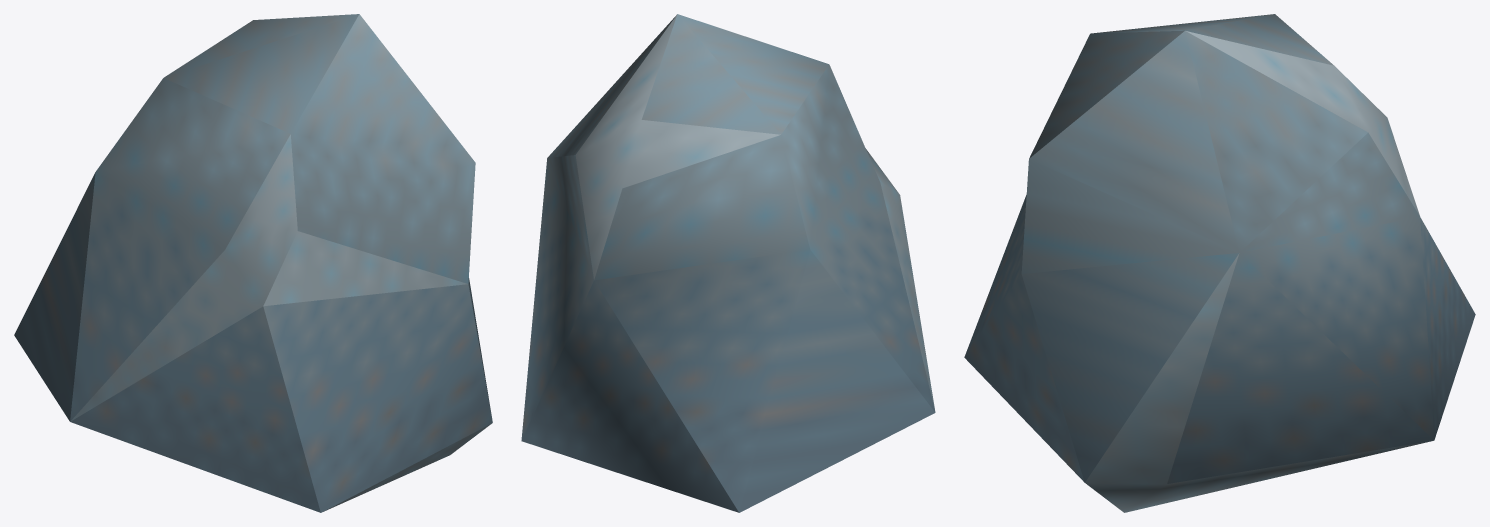
File: Iron_Nugget_Medium.gltf
3 renders of one model, left to right at view 1: azimuth 30°, elevation 25°; view 2: azimuth 150°, elevation 25°; view 3: azimuth 270°, elevation 25°, orthographic. The views are drawn at different scales.
Parts seen in each view (by area): view 1: Iron_Nugget_Medium; view 2: Iron_Nugget_Medium; view 3: Iron_Nugget_Medium.
Part boxes in pixels (box(x1,y1,x2,y2)): Iron_Nugget_Medium: box(14, 14, 492, 512); Iron_Nugget_Medium: box(521, 14, 935, 512); Iron_Nugget_Medium: box(964, 14, 1475, 512).
Bounding box in the file's own units: 0.2589 × 0.2781 × 0.2819.
1 material, 1 textured.
